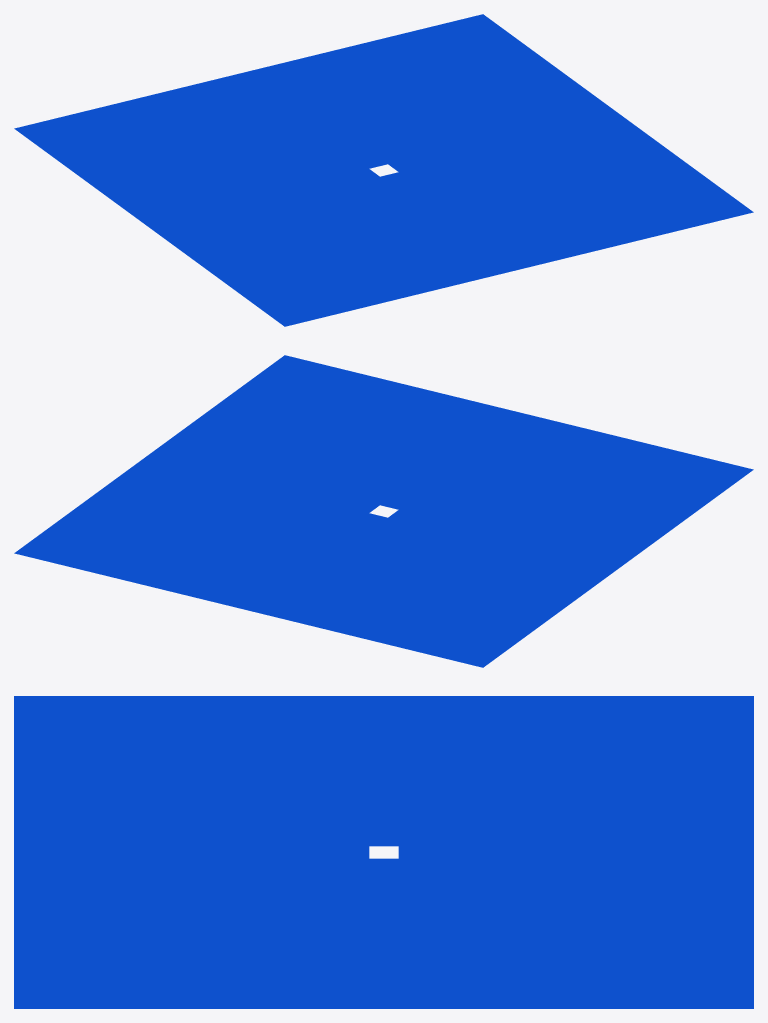
File: WaterPlaneSimple.fbx
3 renders of one model, top to bottom at view 1: azimuth 30°, elevation 25°; view 2: azimuth 150°, elevation 25°; view 3: azimuth 270°, elevation 25°, orthographic. The views are drawn at different scales.
Parts seen in each view (by area): view 1: Plane.002; view 2: Plane.002; view 3: Plane.002.
Part boxes in pixels (x1,y1,x2,y2): Plane.002: (14, 14, 753, 326); Plane.002: (14, 355, 753, 667); Plane.002: (14, 696, 753, 1008).
Bounding box in the file's own units: 7277 × 0 × 7277.
